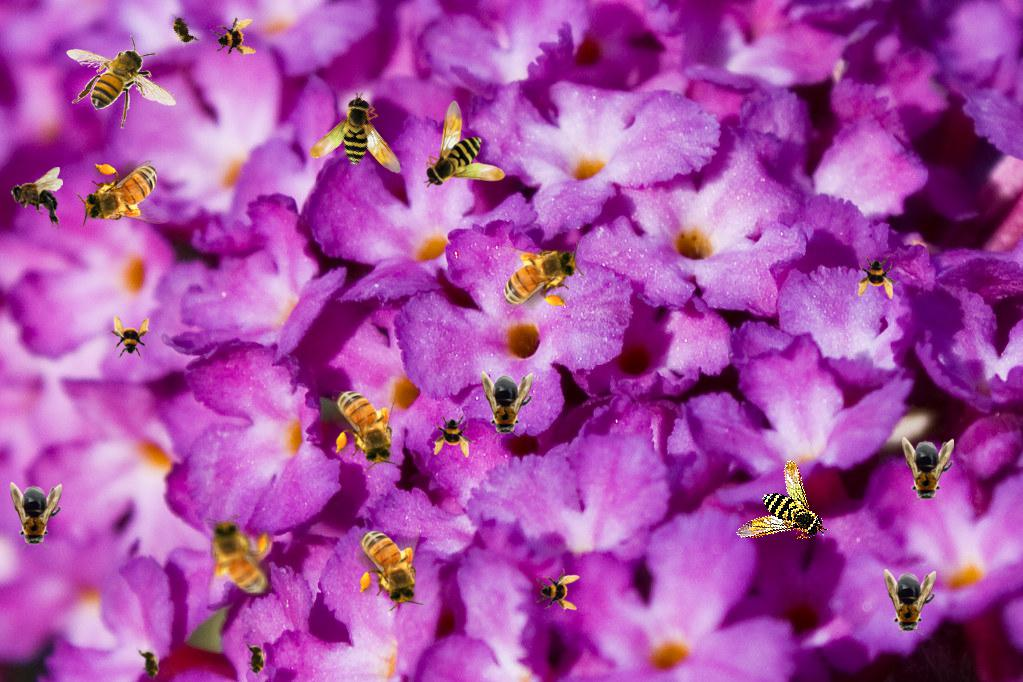Bee: (301, 88, 423, 210), (718, 456, 830, 564), (66, 35, 177, 129), (423, 100, 505, 188), (204, 514, 272, 607), (77, 160, 170, 228), (356, 518, 424, 611), (491, 242, 584, 310), (332, 378, 400, 471), (481, 371, 533, 439), (10, 482, 62, 550), (902, 437, 954, 505), (884, 569, 936, 637), (10, 167, 63, 229), (208, 11, 260, 63), (536, 568, 580, 612), (107, 315, 151, 359), (432, 414, 476, 458), (856, 255, 900, 299), (164, 7, 202, 53), (136, 643, 164, 682), (245, 640, 267, 680)
